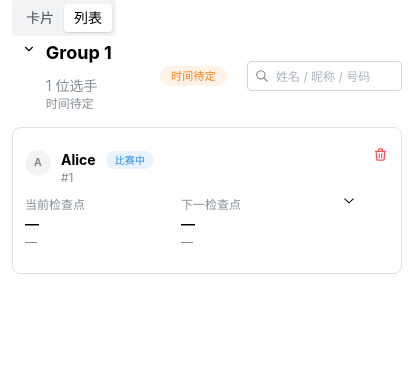
Test: tracking group interactions › opens row history and keeps the remove button separate from expansion
Click the button named "移除Alice" at (380, 155), box top-left (369, 144), bottom-right (391, 166)
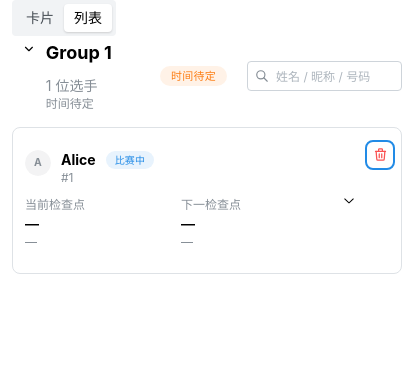
Click the button "A Alice 比赛中 #1 当前检查点 — — 下一检查点 — —" at (191, 200), box top-left (13, 128), bottom-right (369, 273)
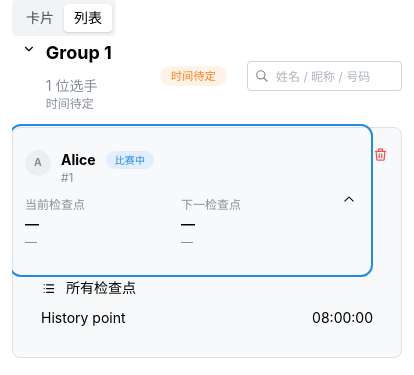
Expected: the text "History point" is shown, top-left (41, 308), bottom-right (126, 328)
